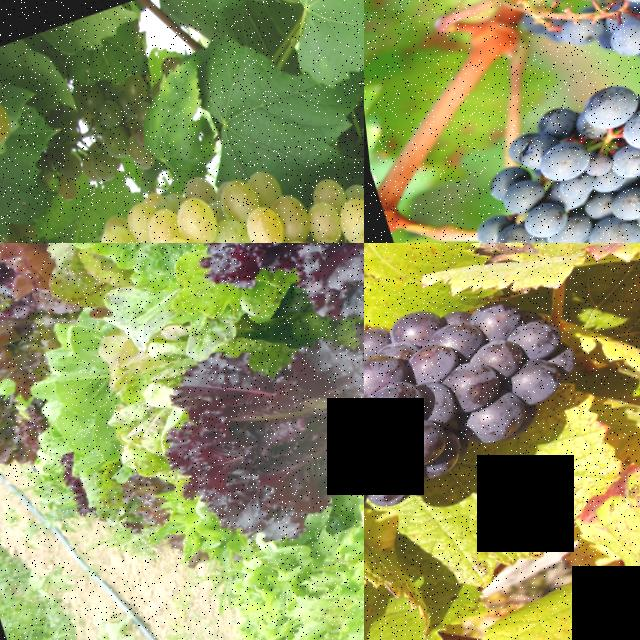grapes: (364, 243, 598, 582), (461, 9, 640, 243), (47, 159, 337, 243), (0, 46, 17, 165)
lettuce: (287, 344, 364, 613), (59, 243, 203, 352)
